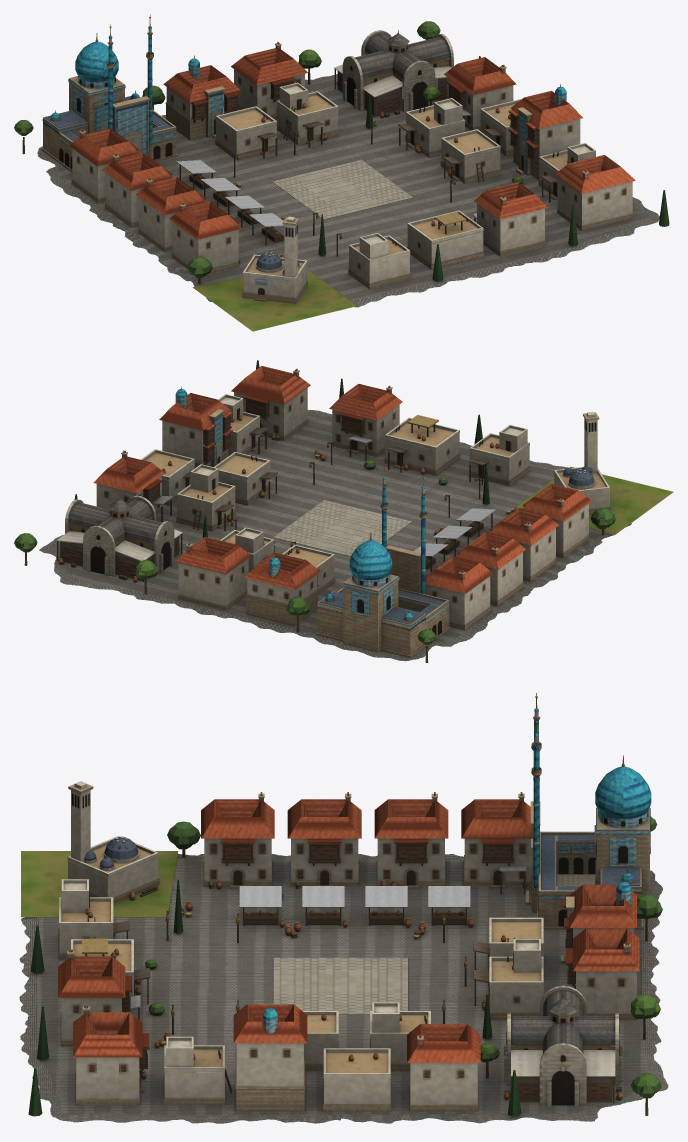
The model's file is gunpowder-town-medium-b-levant.glb.
3 views of the same model, one above another, from view 1: azimuth 30°, elevation 25°; view 2: azimuth 150°, elevation 25°; view 3: azimuth 270°, elevation 25° (orthographic). The views are drawn at different scales.
Parts seen in each view (by area): view 1: LOD0; view 2: LOD0; view 3: LOD0.
Part boxes in pixels (x1,y1,x2,y2): LOD0: [14, 14, 669, 331]; LOD0: [14, 360, 673, 662]; LOD0: [19, 693, 668, 1123].
Size of what is drawn, in the model's own units: 6.03 by 2 by 6.09.
Materials: 3 (3 with a texture image).
